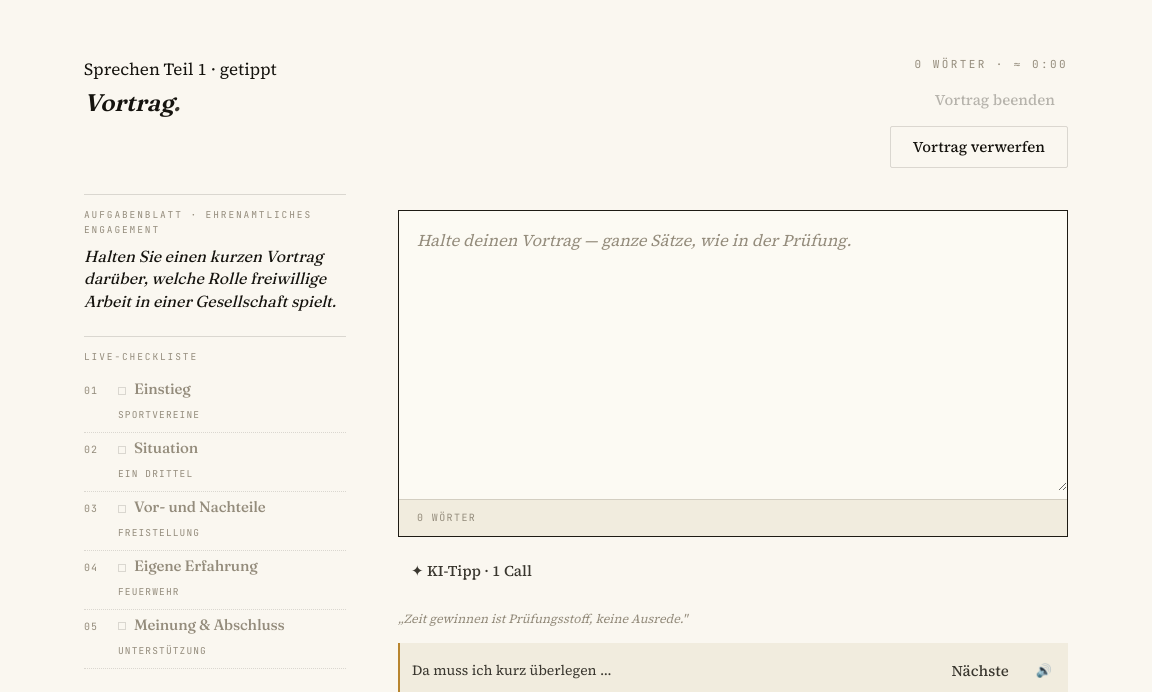
Scenario: Teil1Runner Nachfrage › requests a Nachfrage and renders the question on 'Vortrag beenden'
This screenshot has width=1152, height=692.
Type "Ich spreche heute über das Ehrenamt in unserer Gesellschaft." into the text box with class "rede-textarea" at coordinates (733, 351), box [399,211,1067,491]
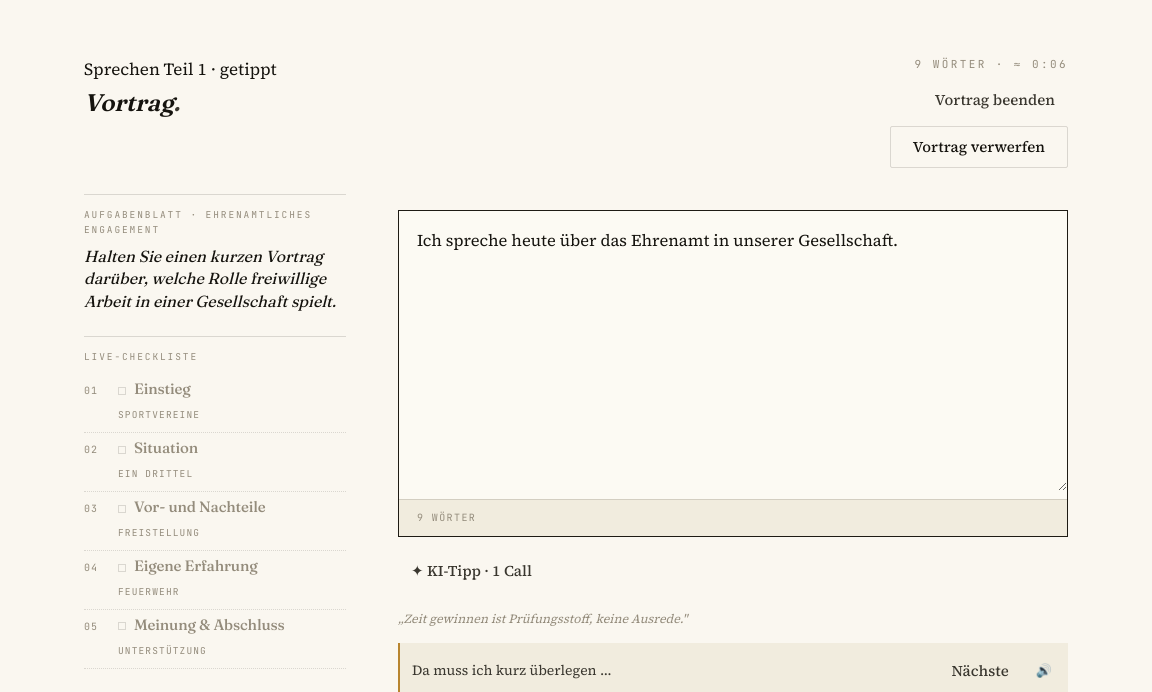
Click the button with class "btn-quiet" showing "Vortrag beenden" at coordinates (995, 100), box [922,82,1068,118]
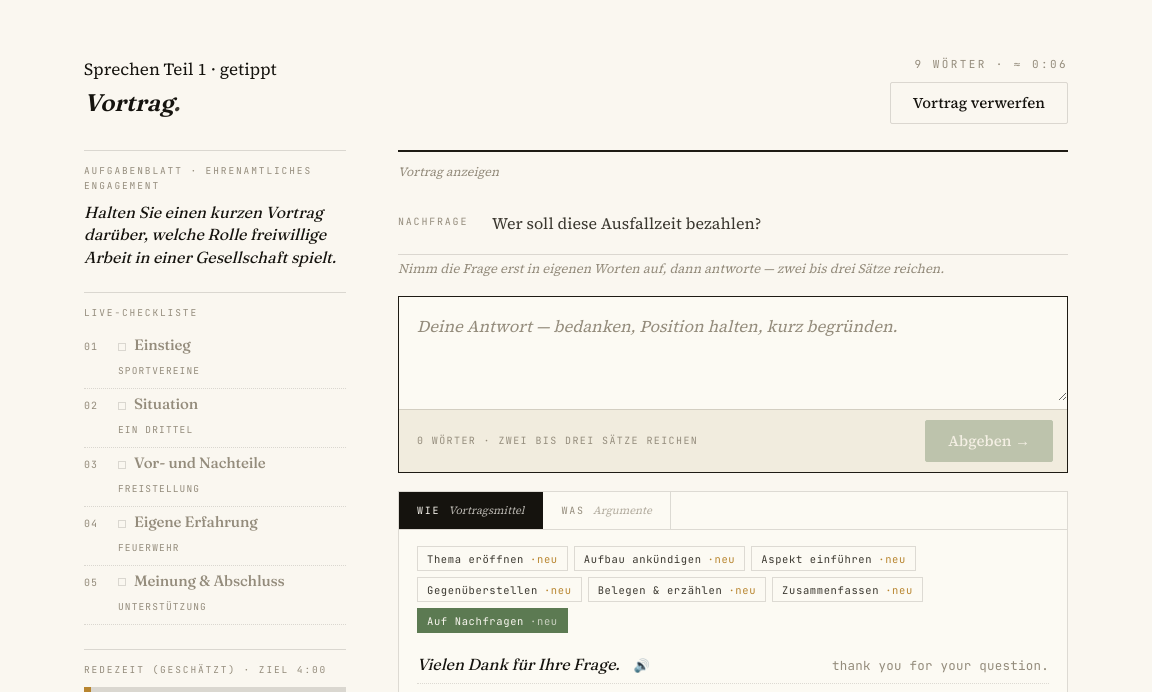
Result: the text "Wer soll diese Ausfallzeit bezahlen?" is shown at [492,212,761,234]
